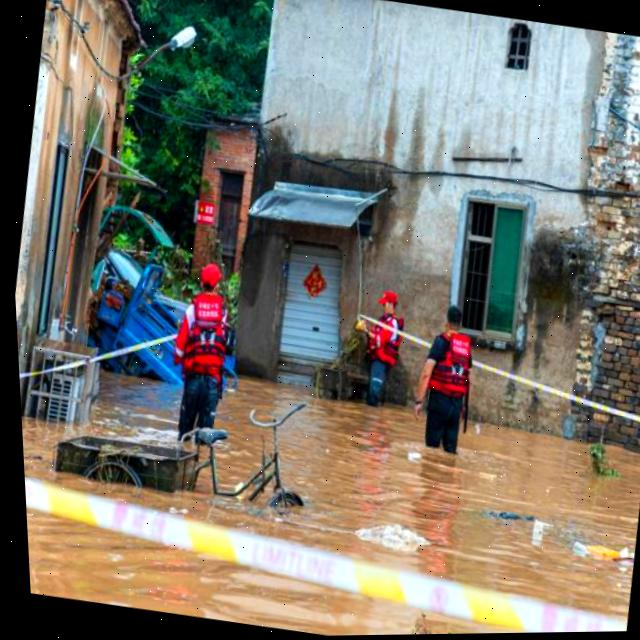rescuer: (153, 252, 255, 458), (393, 288, 498, 466), (339, 276, 417, 429)
